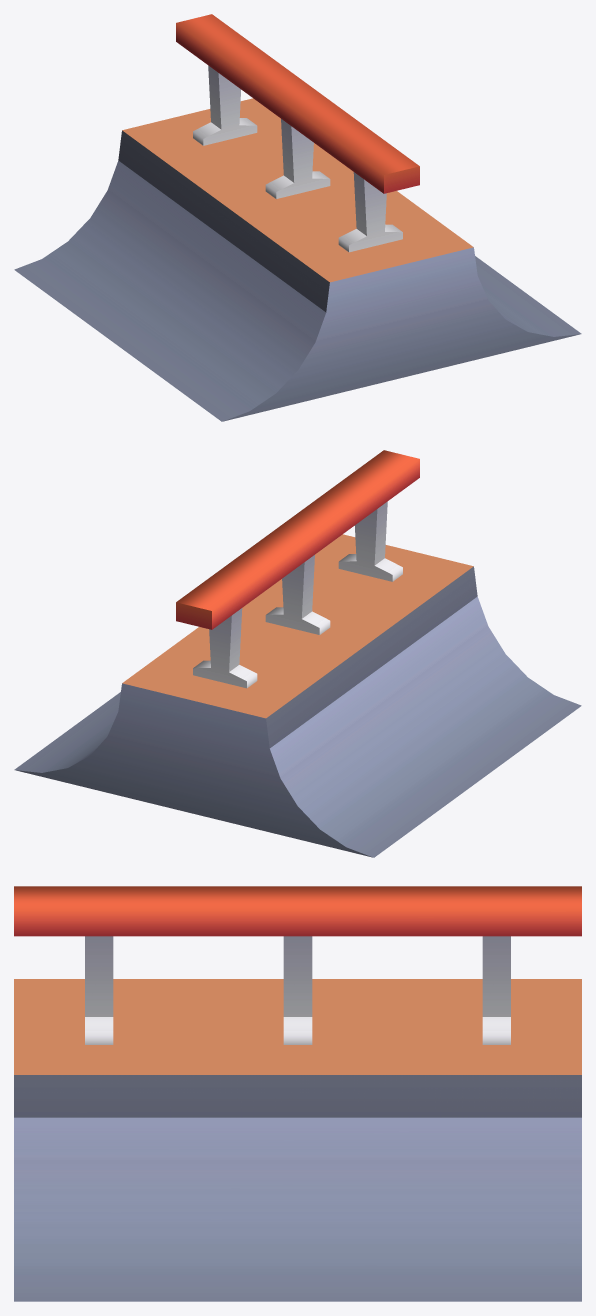
The model's file is obstacle-middle-transformed.glb.
3 renders of one model, top to bottom at view 1: azimuth 30°, elevation 25°; view 2: azimuth 150°, elevation 25°; view 3: azimuth 270°, elevation 25°, orthographic. The views are drawn at different scales.
Parts seen in each view (by area): view 1: obstacle-middle; view 2: obstacle-middle; view 3: obstacle-middle.
Boxes of the visible parts, <box> form: obstacle-middle: <box>14,14,581,421</box>; obstacle-middle: <box>14,450,581,857</box>; obstacle-middle: <box>14,886,581,1301</box>.
Size of the model in its own units: 1 by 0.55 by 1.
1 material, 1 textured.
